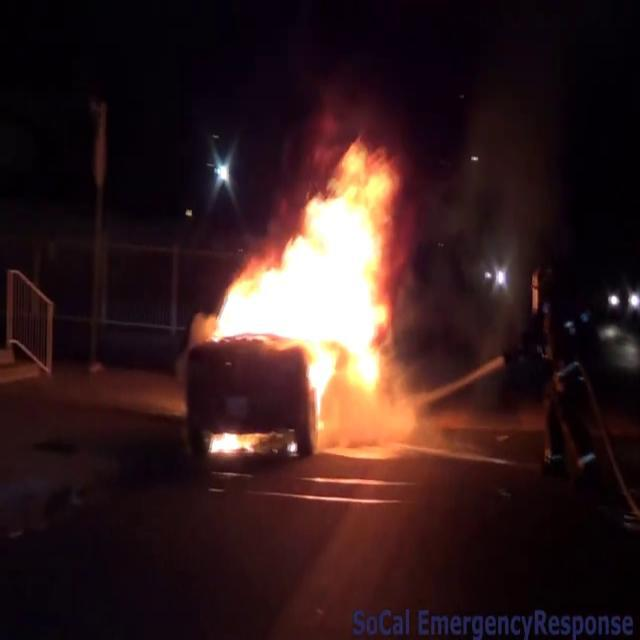Fire: (200, 127, 418, 436), (206, 424, 264, 460)
